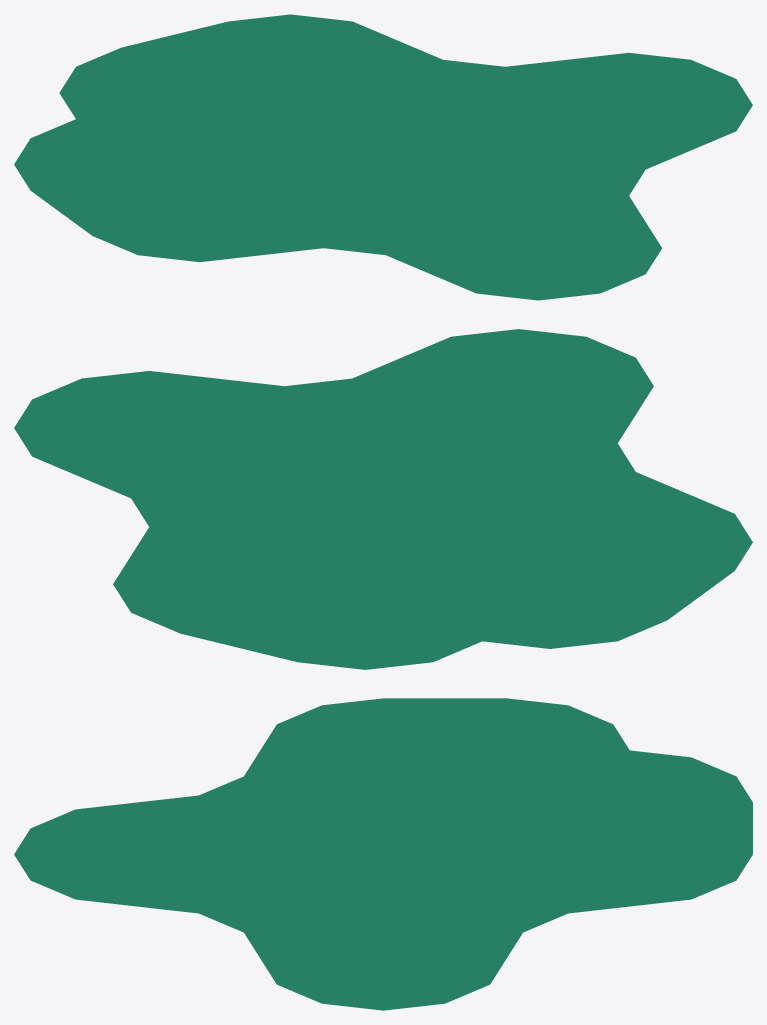
File: patch-grass.glb
3 views of the same model, one above another, from view 1: azimuth 30°, elevation 25°; view 2: azimuth 150°, elevation 25°; view 3: azimuth 270°, elevation 25° (orthographic). The views are drawn at different scales.
Parts seen in each view (by area): view 1: patch-grass; view 2: patch-grass; view 3: patch-grass.
Boxes of the visible parts, box(x1,y1,x2,y2) form: patch-grass: box(14, 14, 752, 300); patch-grass: box(14, 329, 752, 669); patch-grass: box(14, 698, 752, 1010).
Bounding box in the file's own units: 1.2 × 0 × 1.2.
1 material, 1 textured.
